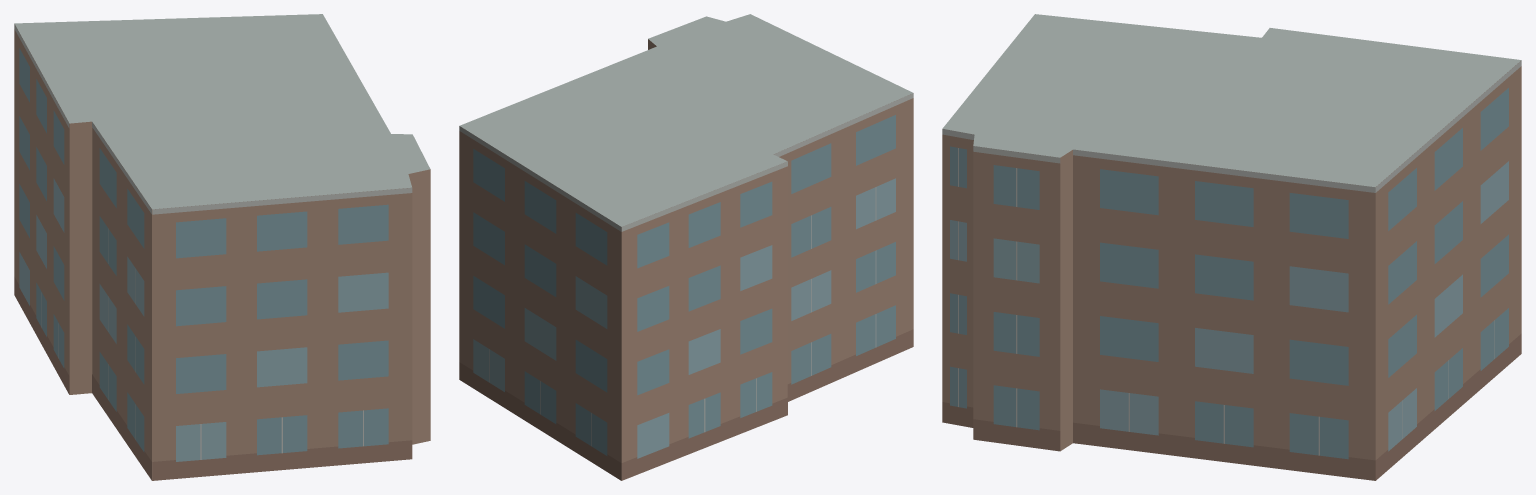
File: survey-upis-32929779.glb
The picture shows the model from 3 angles, left to right: view 1: azimuth 30°, elevation 25°; view 2: azimuth 150°, elevation 25°; view 3: azimuth 270°, elevation 25°; orthographic projection. The views are drawn at different scales.
Visible parts, largest first — view 1: survey-upis-32929779.tmp; view 2: survey-upis-32929779.tmp; view 3: survey-upis-32929779.tmp.
Boxes of the visible parts, x1=… form: survey-upis-32929779.tmp: x1=14, y1=14, x2=430, y2=480; survey-upis-32929779.tmp: x1=459, y1=14, x2=913, y2=480; survey-upis-32929779.tmp: x1=942, y1=14, x2=1521, y2=480.
Size of the model in its own units: 15.7 by 12.4 by 22.18.
